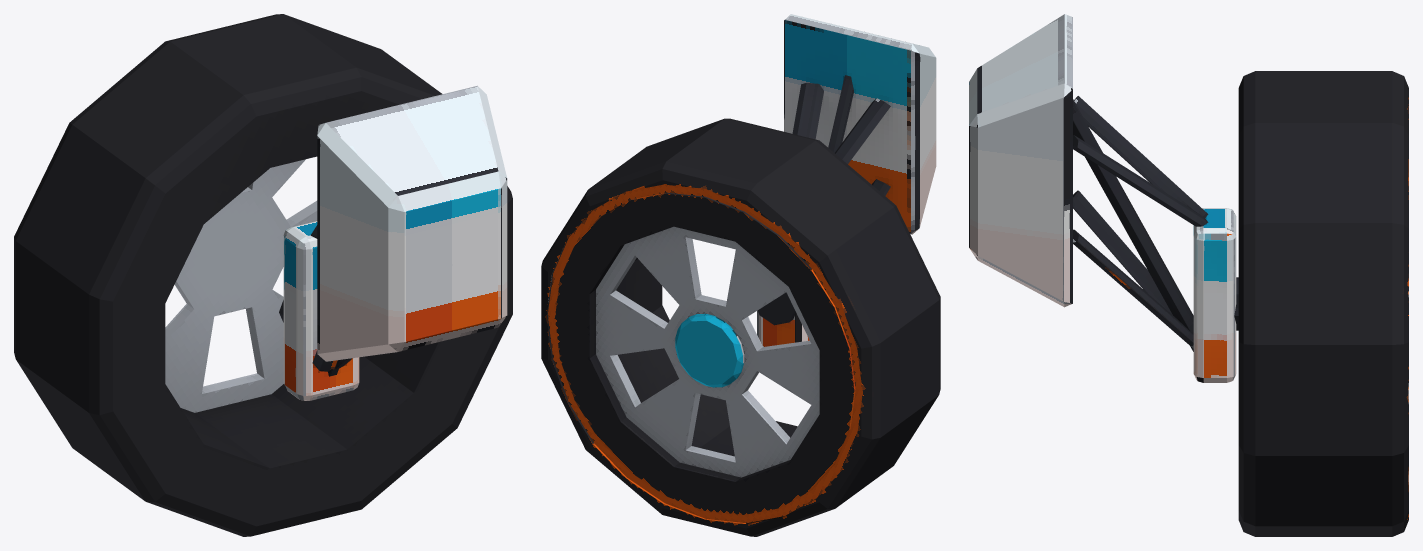
Rendered from aero_wheel_bl.glb.
3 renders of one model, left to right at view 1: azimuth 30°, elevation 25°; view 2: azimuth 150°, elevation 25°; view 3: azimuth 270°, elevation 25°, orthographic. The views are drawn at different scales.
Parts seen in each view (by area): view 1: aero_wheel_bl_tyre, aero_wheel_bl_body, aero_wheel_bl_arm; view 2: aero_wheel_bl_tyre, aero_wheel_bl_body, aero_wheel_bl_arm; view 3: aero_wheel_bl_tyre, aero_wheel_bl_body, aero_wheel_bl_arm.
Part boxes in pixels (box(x1,y1,x2,y2)): aero_wheel_bl_tyre: box(14, 14, 512, 536); aero_wheel_bl_body: box(317, 85, 507, 361); aero_wheel_bl_arm: box(279, 220, 359, 400); aero_wheel_bl_tyre: box(541, 118, 940, 536); aero_wheel_bl_body: box(784, 14, 936, 234); aero_wheel_bl_arm: box(757, 75, 890, 346); aero_wheel_bl_tyre: box(1238, 71, 1408, 536); aero_wheel_bl_body: box(969, 14, 1072, 307); aero_wheel_bl_arm: box(1073, 96, 1238, 382).
Size of the model in its own units: 0.9659 by 1.08 by 0.93.
1 material, 1 textured.
